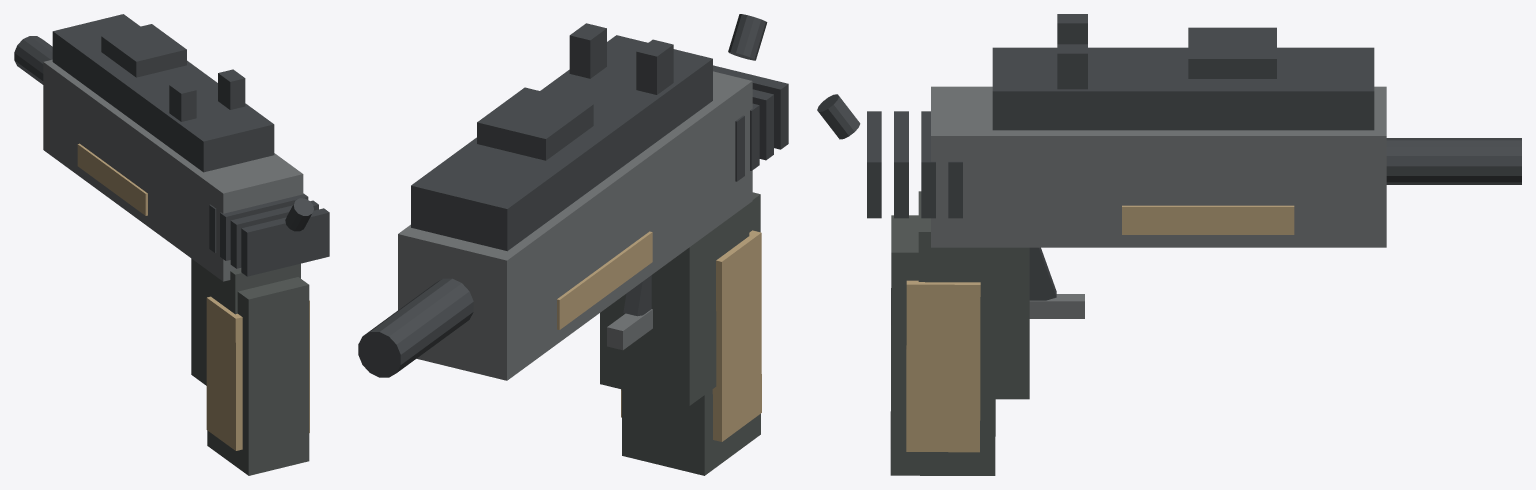
The model's file is pistol.glb.
3 views of the same model, side by side, from view 1: azimuth 30°, elevation 25°; view 2: azimuth 150°, elevation 25°; view 3: azimuth 270°, elevation 25° (orthographic). The views are drawn at different scales.
Visible parts, largest first — view 1: pistol; view 2: pistol; view 3: pistol.
Part boxes in pixels (bbox=[...]): pistol: bbox=[14, 14, 329, 475]; pistol: bbox=[358, 14, 788, 475]; pistol: bbox=[817, 14, 1521, 475].
Bounding box in the file's own units: 0.1 × 0.3796 × 0.5726.
